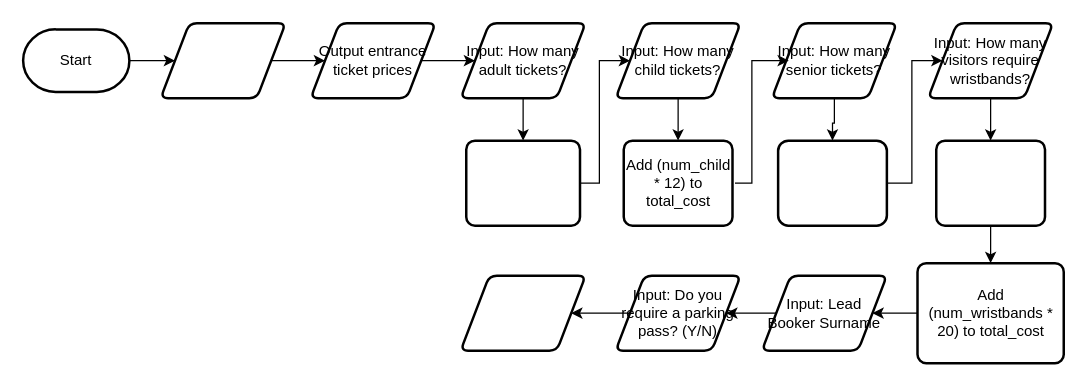
This 1086x385 diagram has some shape labels left out. The shapes that lost their labels are listed below. From the top down, each one's centre as x and y in pixels, then its label:
(x=222, y=60): Output welcome message
(x=522, y=182): Set total_cost to (num_adult * 20)
(x=832, y=182): Add (num_senior * 11) to total_cost
(x=990, y=182): Set num_wristbands
(x=522, y=312): Output: "£total_cost"
